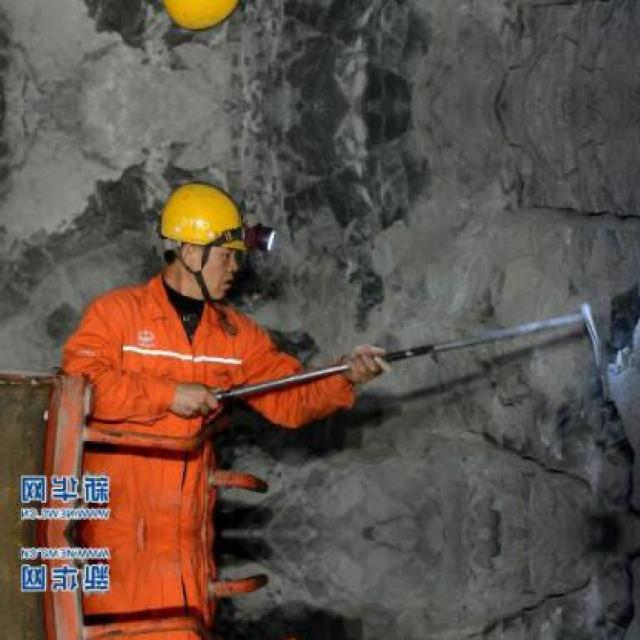Reflective-Jacket: (41, 281, 368, 501)
Safety-Helmet: (143, 174, 262, 266)
